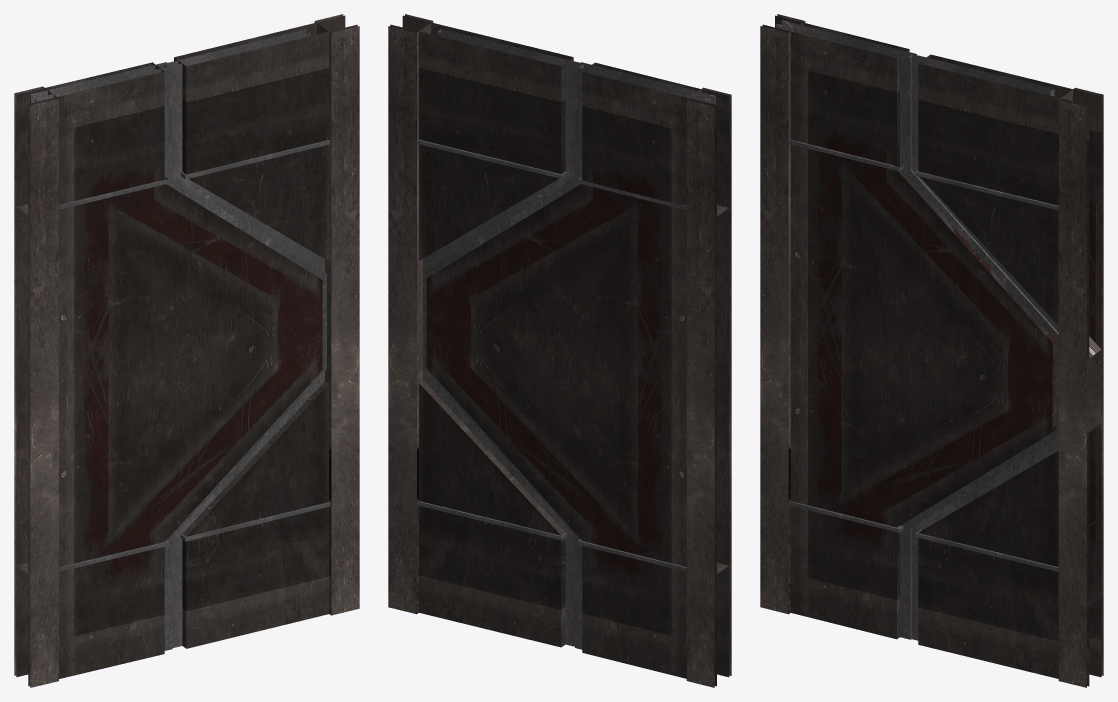
The model's file is HeavyDoorSet.fbx.
3 views of the same model, side by side, from view 1: azimuth 30°, elevation 25°; view 2: azimuth 150°, elevation 25°; view 3: azimuth 330°, elevation 25° (orthographic).
Visible parts, largest first — view 1: HeavyDoor_01, HeavyDoor_02; view 2: HeavyDoor_01, HeavyDoor_02; view 3: HeavyDoor_01, HeavyDoor_02.
Boxes of the visible parts, bbox=[...] form: HeavyDoor_01: bbox=[14, 62, 326, 687]; HeavyDoor_02: bbox=[164, 14, 359, 648]; HeavyDoor_01: bbox=[423, 62, 731, 687]; HeavyDoor_02: bbox=[388, 14, 583, 647]; HeavyDoor_01: bbox=[760, 14, 1058, 639]; HeavyDoor_02: bbox=[908, 54, 1103, 687].
Bounding box in the file's own units: 1.84 × 3.12 × 0.1702.
